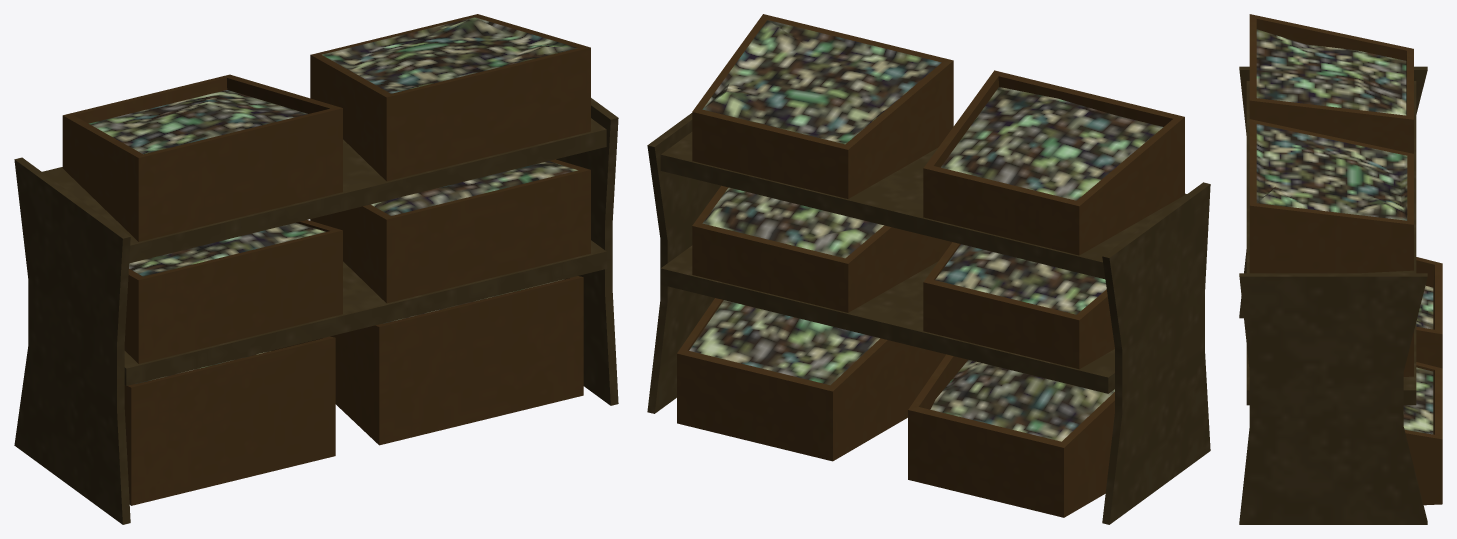
File: L1_FoodCounter2.fbx
The picture shows the model from 3 angles, left to right: view 1: azimuth 30°, elevation 25°; view 2: azimuth 150°, elevation 25°; view 3: azimuth 270°, elevation 25°; orthographic projection. The views are drawn at different scales.
Visible parts, largest first — view 1: L1_FoodCounter2; view 2: L1_FoodCounter2; view 3: L1_FoodCounter2.
Part boxes in pixels (bbox=[...]): L1_FoodCounter2: bbox=[14, 14, 618, 524]; L1_FoodCounter2: bbox=[647, 14, 1210, 524]; L1_FoodCounter2: bbox=[1239, 14, 1442, 524].
Bounding box in the file's own units: 266 × 183 × 109.
1 material, 1 textured.
